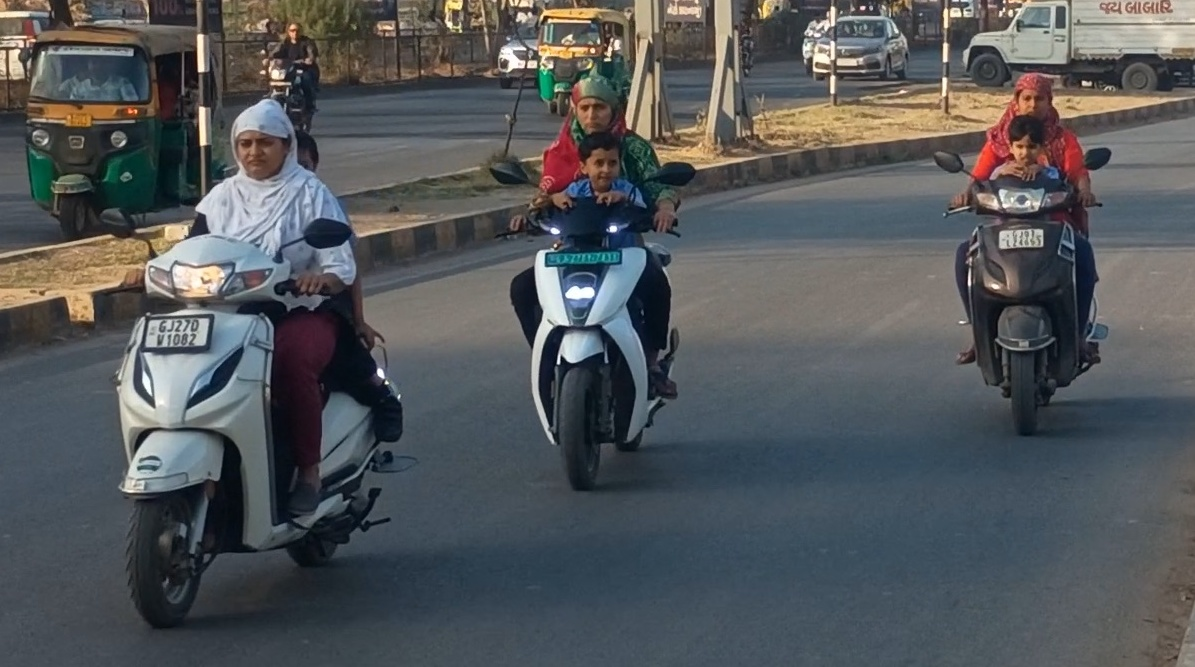BikeWithRider: (98, 92, 423, 636), (480, 65, 702, 497), (923, 66, 1123, 443), (251, 13, 332, 149)
NoHelmet: (221, 94, 303, 185), (561, 67, 636, 144), (1001, 67, 1065, 130), (572, 130, 630, 190), (997, 113, 1057, 165), (283, 19, 307, 43)
